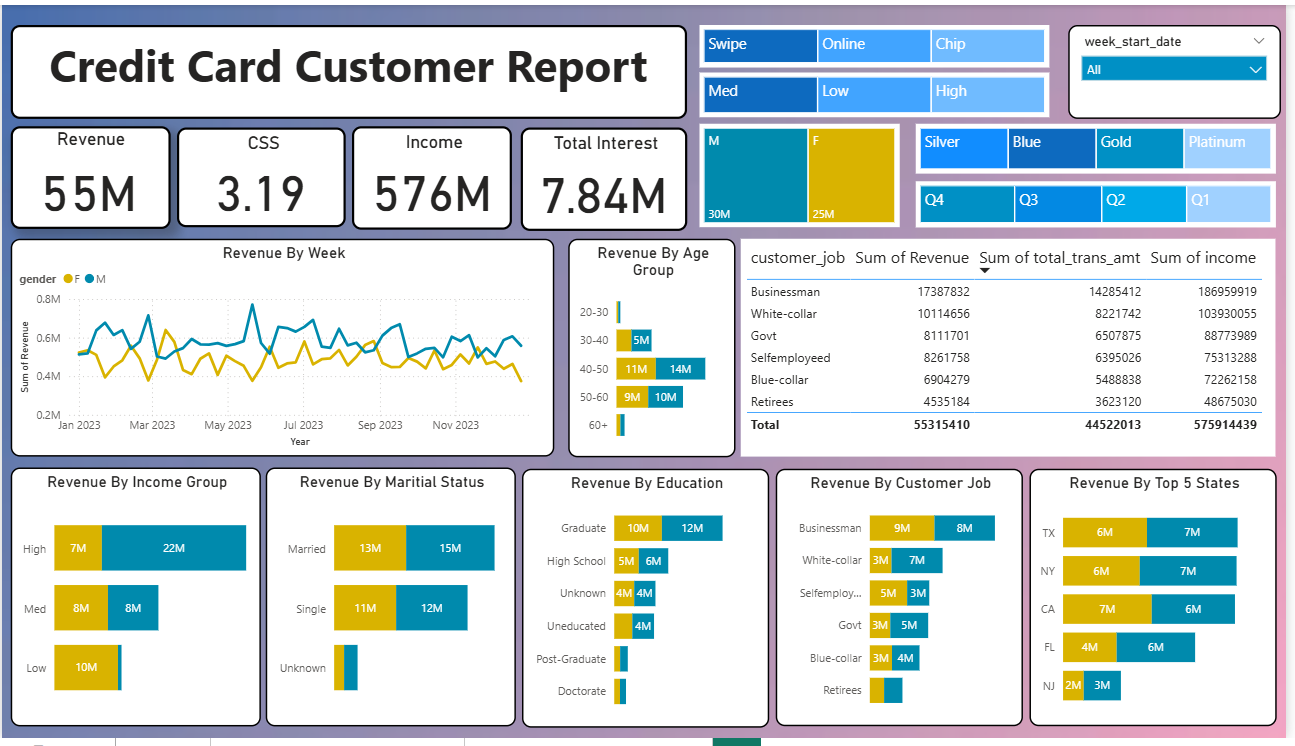

The page's visual inventory and layout, read from the dashboard file:
{"tool":"powerbi","page":{"name":"Credit Card Customer Report","canvas":[1400,800],"ordinal":2},"visuals":[{"type":"textbox","box":[9.5,21.8,737.6,102.3],"z":0},{"type":"barChart","title":"Revenue By Income Group","fields":{"Category":["public cust_detail.IncomeGroup"],"Y":["Sum(public cc_detail.Revenue)"],"Series":["public cust_detail.gender"]},"box":[9.5,504.4,272.7,282.2],"z":1000},{"type":"tableEx","fields":{"Values":["public cust_detail.customer_job","Sum(public cc_detail.Revenue)","Sum(public cc_detail.total_trans_amt)","Sum(public cust_detail.income)"]},"box":[805.7,254.9,583.5,237.2],"z":2000},{"type":"card","title":"Revenue","fields":{"Values":["Sum(public cc_detail.Revenue)"]},"box":[9.5,132.2,174.5,111.8],"z":3000},{"type":"card","title":"CSS","fields":{"Values":["Avg(public cust_detail.cust_satisfaction_score)"]},"box":[190.9,133.6,184.1,109.1],"z":4000},{"type":"card","title":"Income","fields":{"Values":["Sum(public cust_detail.income)"]},"box":[381.7,132.2,174.5,113.2],"z":5000},{"type":"card","title":"Total Interest","fields":{"Values":["Sum(public cc_detail.interest_earned)"]},"box":[565.8,133.6,181.3,113.2],"z":6000},{"type":"slicer","fields":{"Values":["public cc_detail.week_start_date"]},"box":[1162.9,21.8,231.8,102.3],"z":7000},{"type":"treemap","fields":{"Group":["public cc_detail.qtr"],"Values":["Avg(public cust_detail.client_num)"]},"box":[996.6,192.2,392.6,50.4],"z":8000},{"type":"treemap","fields":{"Values":["Avg(public cust_detail.client_num)"],"Group":["public cc_detail.card_category"]},"box":[996.6,129.5,392.6,54.5],"z":9000},{"type":"treemap","fields":{"Values":["Avg(public cust_detail.client_num)"],"Group":["public cust_detail.IncomeGroup"]},"box":[760.7,73.6,381.7,49.1],"z":10000},{"type":"lineChart","title":"Revenue By Week","fields":{"Y":["Sum(public cc_detail.Revenue)"],"Series":["public cust_detail.gender"],"Category":["public cc_detail.week_start_date.Variation.Date Hierarchy.Year","public cc_detail.week_start_date.Variation.Date Hierarchy.Month","public cc_detail.week_start_date.Variation.Date Hierarchy.Day"]},"box":[9.5,254.9,593.1,237.2],"z":11000},{"type":"treemap","fields":{"Group":["public cust_detail.gender"],"Values":["Sum(public cc_detail.Revenue)"]},"box":[760.7,129.5,218.1,113.2],"z":12000},{"type":"barChart","title":"Revenue By Age Group","fields":{"Category":["public cust_detail.AgeGroup"],"Y":["Sum(public cc_detail.Revenue)"],"Series":["public cust_detail.gender"]},"box":[617.6,254.9,182.7,238.6],"z":13000},{"type":"barChart","title":"Revenue By Customer Job","fields":{"Category":["public cust_detail.customer_job"],"Y":["Sum(public cc_detail.Revenue)"],"Series":["public cust_detail.gender"]},"box":[843.9,505.8,269.9,280.8],"z":14000},{"type":"barChart","title":"Revenue By Education ","fields":{"Category":["public cust_detail.education_level"],"Y":["Sum(public cc_detail.Revenue)"],"Series":["public cust_detail.gender"]},"box":[567.1,505.8,269.9,282.2],"z":15000},{"type":"barChart","title":"Revenue By Top 5 States","fields":{"Category":["public cust_detail.state_cd"],"Y":["Sum(public cc_detail.Revenue)"],"Series":["public cust_detail.gender"]},"box":[1120.7,505.8,269.9,280.8],"z":16000},{"type":"barChart","title":"Revenue By Maritial Status","fields":{"Category":["public cust_detail.marital_status"],"Y":["Sum(public cc_detail.Revenue)"],"Series":["public cust_detail.gender"]},"box":[287.7,504.4,272.7,282.2],"z":17000},{"type":"treemap","fields":{"Group":["public cc_detail.use_chip"],"Values":["Avg(public cust_detail.client_num)"]},"box":[760.7,21.8,381.7,46.4],"z":18000}]}

Visuals, with their boxes in screenshot pixels (x1, y1, x2, y2), scaled from the page's 1400x800 canvas onto the 1295x746 screenshot:
textbox: <bbox>9, 20, 691, 116</bbox>
"Revenue By Income Group" barChart: <bbox>9, 470, 261, 734</bbox>
tableEx - public cust_detail.customer_job x Sum(public cc_detail.Revenue): <bbox>745, 238, 1285, 459</bbox>
"Revenue" card: <bbox>9, 123, 170, 228</bbox>
"CSS" card: <bbox>177, 125, 347, 226</bbox>
"Income" card: <bbox>353, 123, 514, 229</bbox>
"Total Interest" card: <bbox>523, 125, 691, 230</bbox>
slicer - public cc_detail.week_start_date: <bbox>1076, 20, 1290, 116</bbox>
treemap - public cc_detail.qtr x Avg(public cust_detail.client_num): <bbox>922, 179, 1285, 226</bbox>
treemap - Avg(public cust_detail.client_num) x public cc_detail.card_category: <bbox>922, 121, 1285, 172</bbox>
treemap - Avg(public cust_detail.client_num) x public cust_detail.IncomeGroup: <bbox>704, 69, 1057, 114</bbox>
"Revenue By Week" lineChart: <bbox>9, 238, 557, 459</bbox>
treemap - public cust_detail.gender x Sum(public cc_detail.Revenue): <bbox>704, 121, 905, 226</bbox>
"Revenue By Age Group" barChart: <bbox>571, 238, 740, 460</bbox>
"Revenue By Customer Job" barChart: <bbox>781, 472, 1030, 734</bbox>
"Revenue By Education " barChart: <bbox>525, 472, 774, 735</bbox>
"Revenue By Top 5 States" barChart: <bbox>1037, 472, 1286, 734</bbox>
"Revenue By Maritial Status" barChart: <bbox>266, 470, 518, 734</bbox>
treemap - public cc_detail.use_chip x Avg(public cust_detail.client_num): <bbox>704, 20, 1057, 64</bbox>
